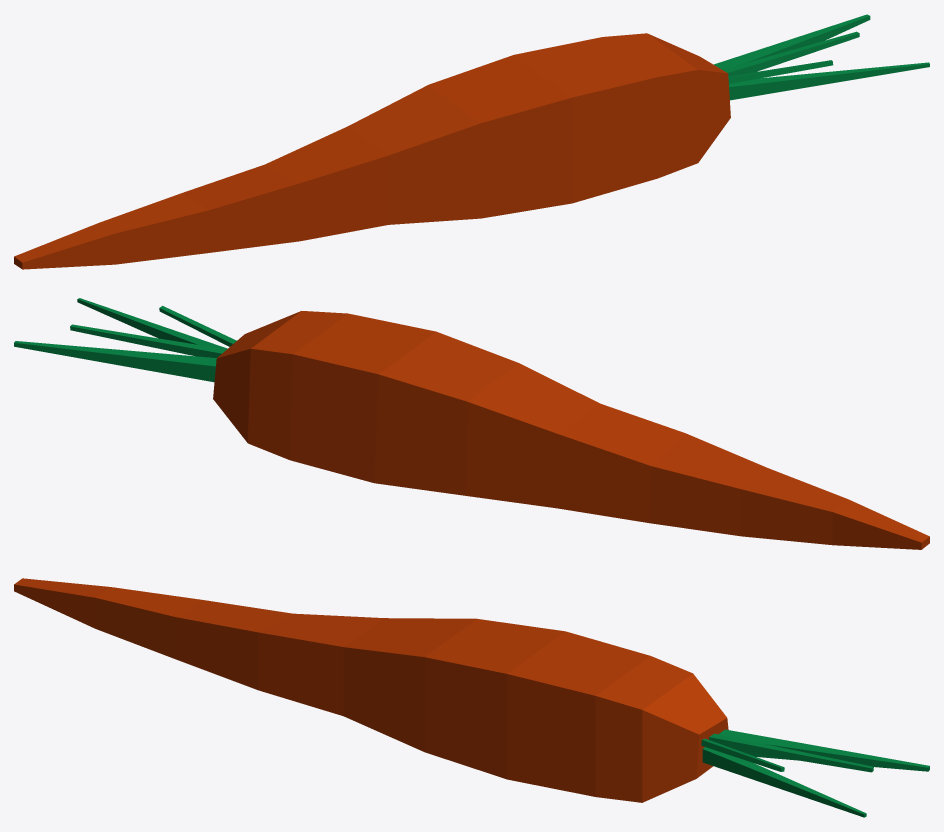
File: carrot.fbx
3 views of the same model, one above another, from view 1: azimuth 30°, elevation 25°; view 2: azimuth 150°, elevation 25°; view 3: azimuth 330°, elevation 25° (orthographic).
Visible parts, largest first — view 1: Cube; view 2: Cube; view 3: Cube.
Part boxes in pixels (<box>): Cube: <box>14,14,929,269</box>; Cube: <box>14,298,929,549</box>; Cube: <box>14,578,929,817</box>.
Size of the model in its own units: 97.07 by 11.19 by 12.28.
